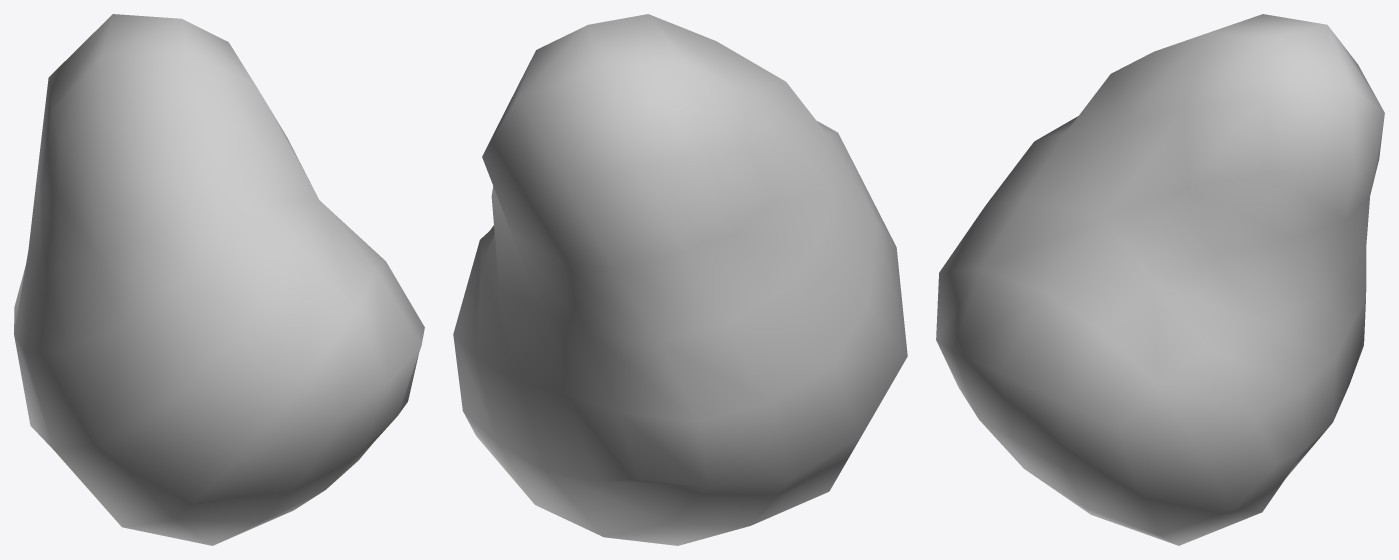
Rendered from Rock_04.fbx.
3 views of the same model, side by side, from view 1: azimuth 30°, elevation 25°; view 2: azimuth 150°, elevation 25°; view 3: azimuth 270°, elevation 25° (orthographic). The views are drawn at different scales.
Visible parts, largest first — view 1: Rock_04; view 2: Rock_04; view 3: Rock_04.
Boxes of the visible parts, x1,y1,x2,y2 form: Rock_04: (14, 14, 424, 545); Rock_04: (453, 14, 907, 545); Rock_04: (936, 14, 1384, 545).
Bounding box in the file's own units: 35.07 × 44.94 × 37.54.
